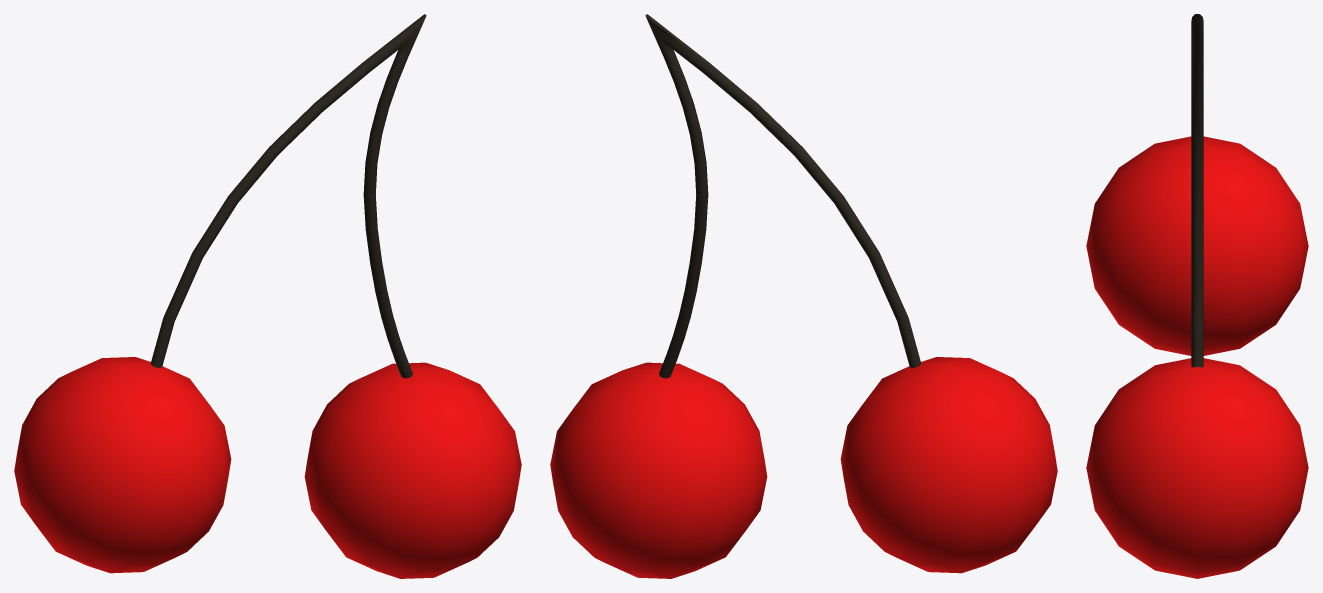
Rendered from fruta.FBX.
The picture shows the model from 3 angles, left to right: view 1: azimuth 30°, elevation 25°; view 2: azimuth 150°, elevation 25°; view 3: azimuth 270°, elevation 25°; orthographic projection.
Parts seen in each view (by area): view 1: cereza; view 2: cereza; view 3: cereza.
Part boxes in pixels (box(x1,y1,x2,y2)): cereza: box(14, 14, 521, 578); cereza: box(550, 14, 1057, 578); cereza: box(1086, 14, 1308, 578).
Size of the model in its own units: 19.24 by 21.15 by 7.6.
